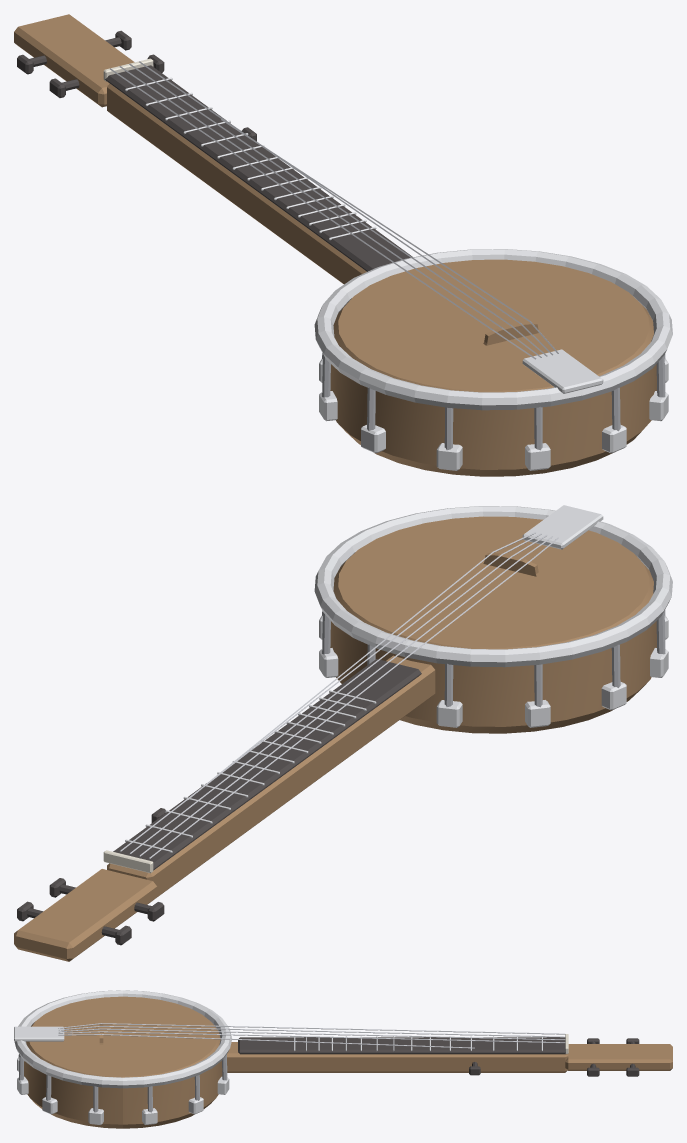
Rendered from orchestra-and-band-instruments-banjo-796363cc__39281.glb.
The picture shows the model from 3 angles, top to bottom: view 1: azimuth 30°, elevation 25°; view 2: azimuth 150°, elevation 25°; view 3: azimuth 270°, elevation 25°; orthographic projection. The views are drawn at different scales.
Visible parts, largest first — view 1: banjo; view 2: banjo; view 3: banjo.
Boxes of the visible parts, x1=… form: banjo: x1=14, y1=14, x2=672, y2=476; banjo: x1=14, y1=505, x2=672, y2=961; banjo: x1=14, y1=990, x2=672, y2=1128.
Bounding box in the file's own units: 0.304 × 0.0924 × 0.918.
